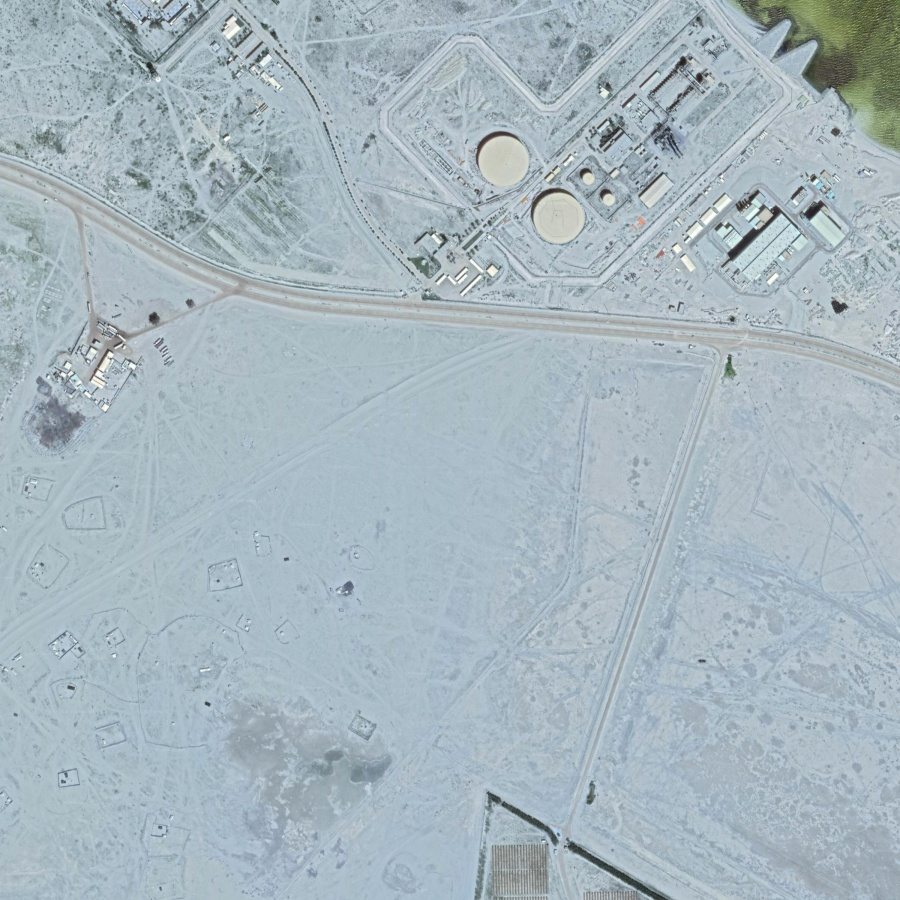PowerPlant: (455, 26, 860, 313)
